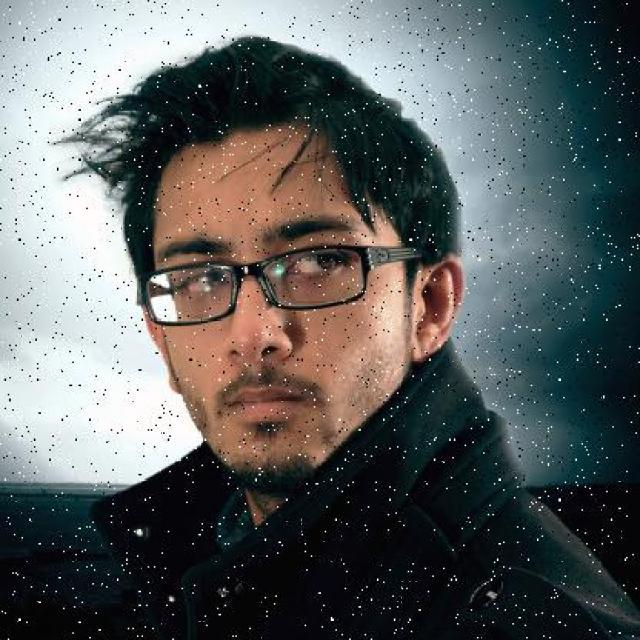glasses: (136, 239, 390, 330)
